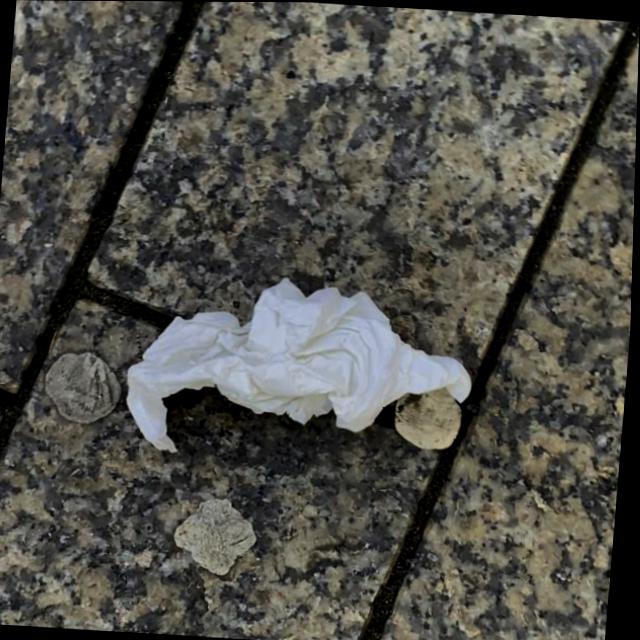Paper: (121, 265, 485, 471)
